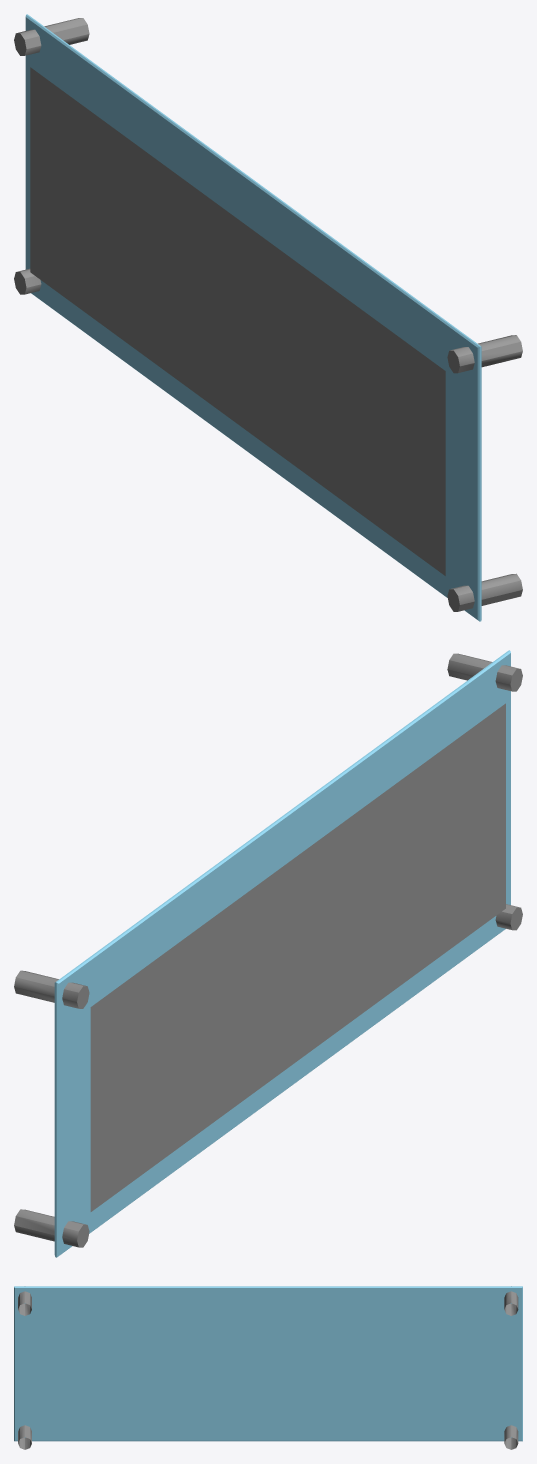
File: Message_02.FBX
3 renders of one model, top to bottom at view 1: azimuth 30°, elevation 25°; view 2: azimuth 150°, elevation 25°; view 3: azimuth 270°, elevation 25°, orthographic. The views are drawn at different scales.
Parts seen in each view (by area): view 1: Message_02, Back_01; view 2: Message_02, Back_01; view 3: Back_01.
Boxes of the visible parts, x1,y1,x2,y2 form: Message_02: [30, 67, 445, 575]; Back_01: [14, 14, 522, 621]; Message_02: [90, 703, 505, 1211]; Back_01: [14, 650, 522, 1257]; Back_01: [14, 1286, 522, 1449].
Size of the model in its own units: 0.4822 by 2.01 by 6.01.
